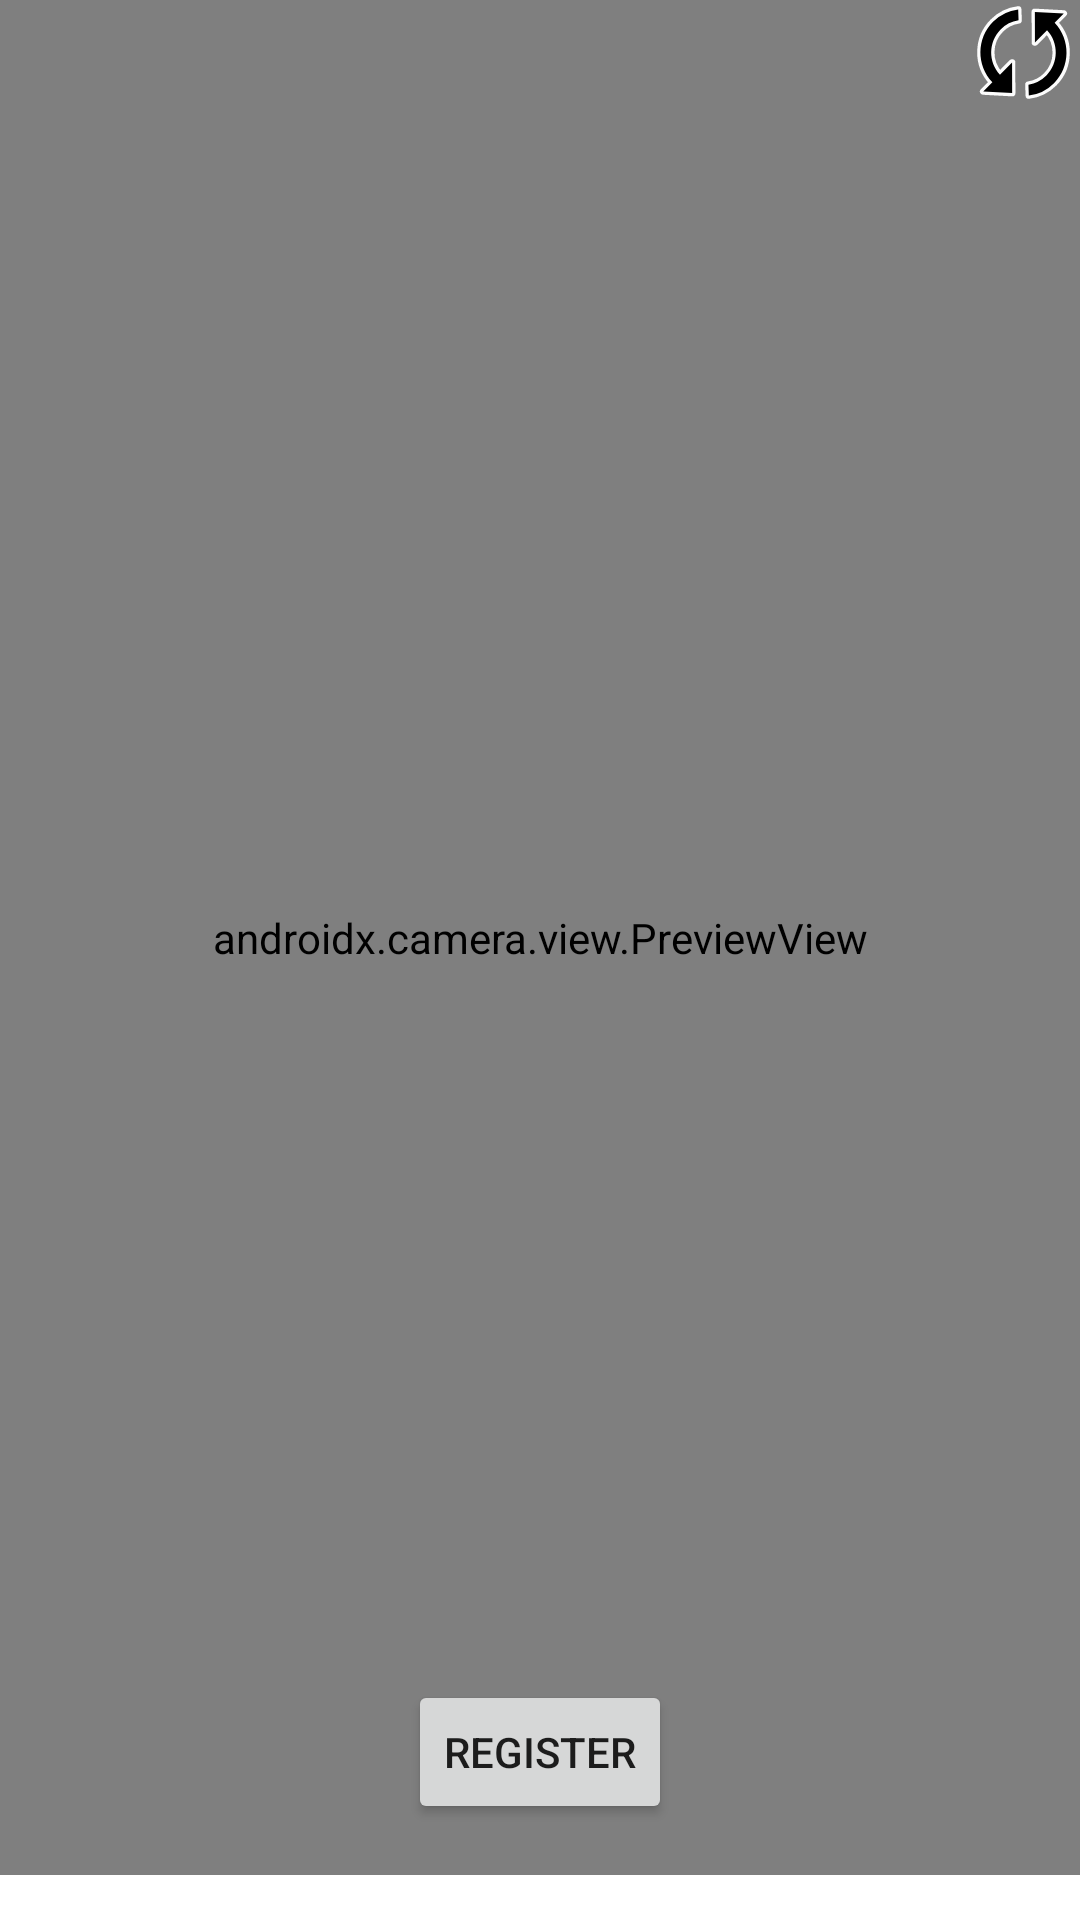

Named icons in this screenshot (1080px x 1920px) and their centers, point (x, y):
Switch Camera Button: point (1023, 52)
